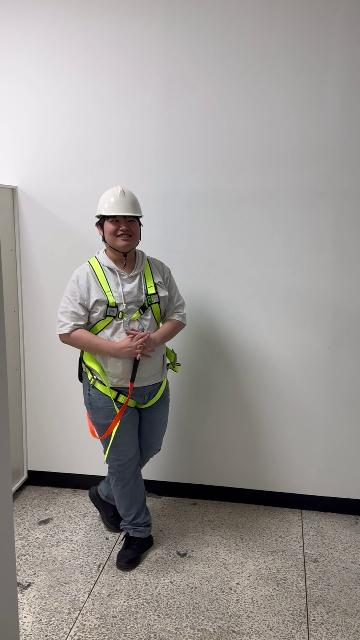helmet_worn: (94, 184, 144, 218)
shoe_not_worn: (88, 483, 122, 532), (115, 532, 153, 570)
vest_worn: (73, 258, 182, 430)
